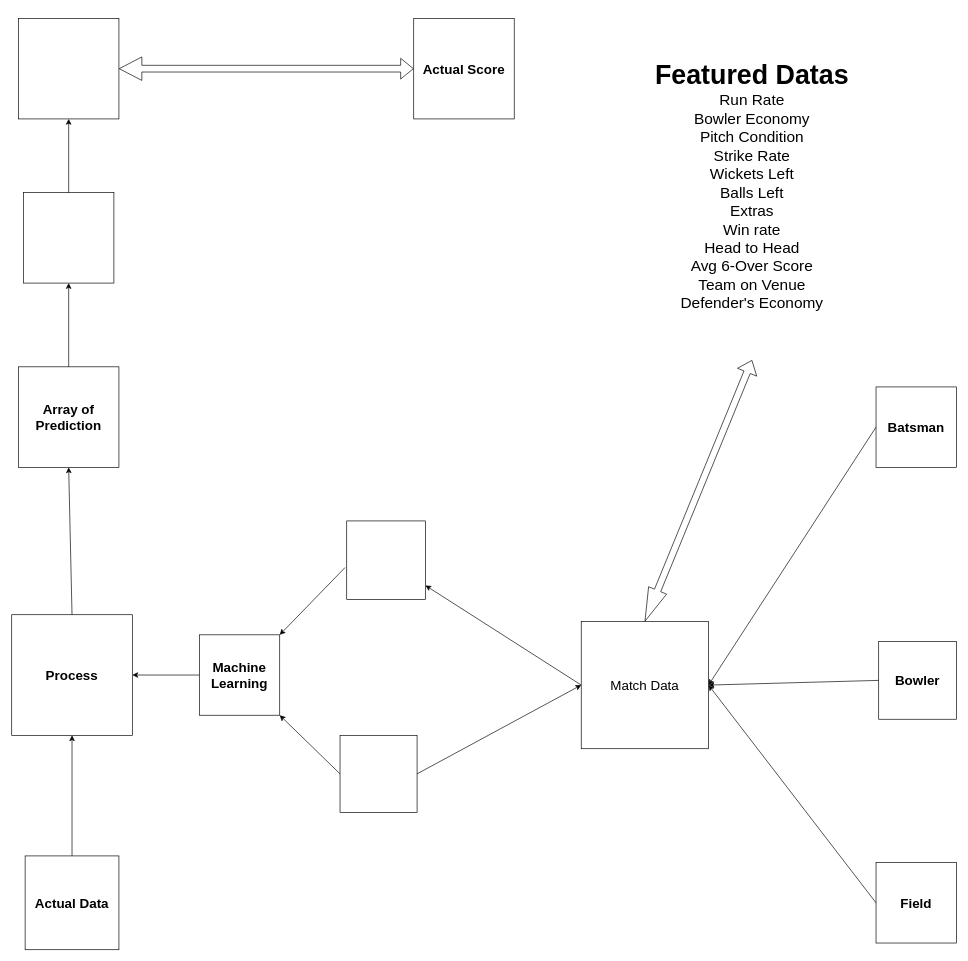
Some shapes in this 968 by 961 pixel diagram are drawn without their labels. The shapes that lost their labels are listed below. From the top down, each one's box as (x1, y1, x2, y2) in pixels, then its label:
(18, 18, 119, 119): Predicted Score
(23, 192, 114, 283): Mean Prediction
(346, 520, 425, 600): Test Data
(339, 735, 417, 812): Validation Data
